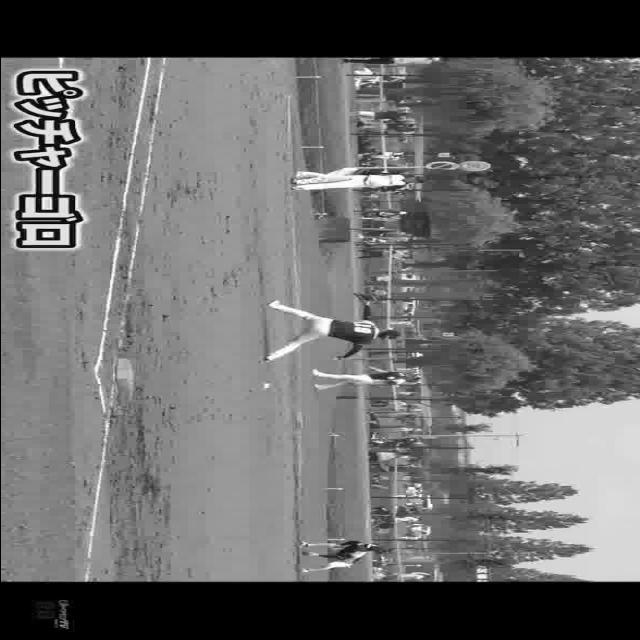base: (112, 358, 134, 402)
baseball: (328, 355, 338, 362)
baseball_glove: (352, 292, 376, 302)
shoe: (263, 300, 281, 310), (256, 355, 264, 363)
